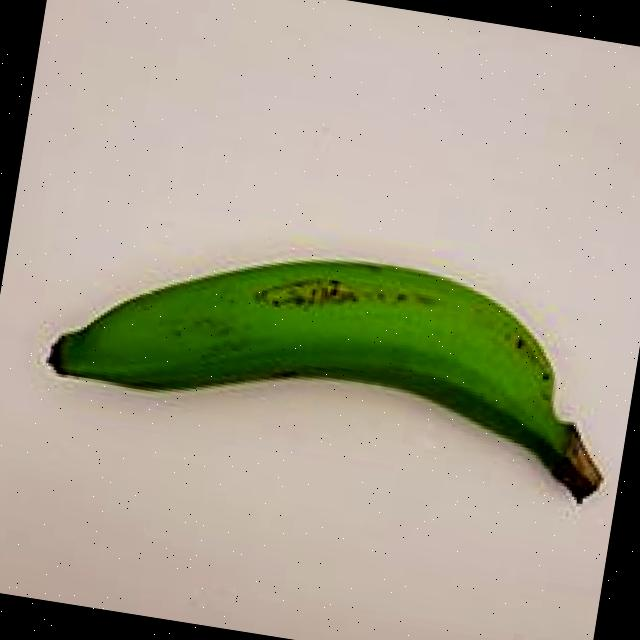Raw: (18, 168, 640, 551)
